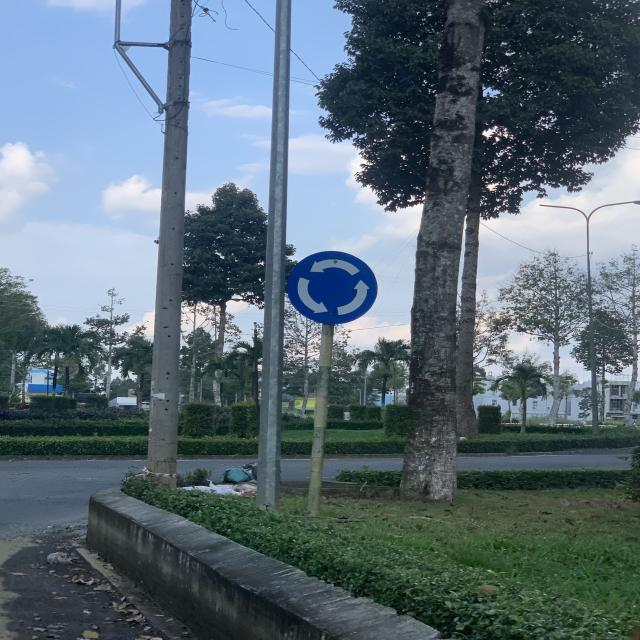Xe_Bus: (285, 249, 379, 325)
